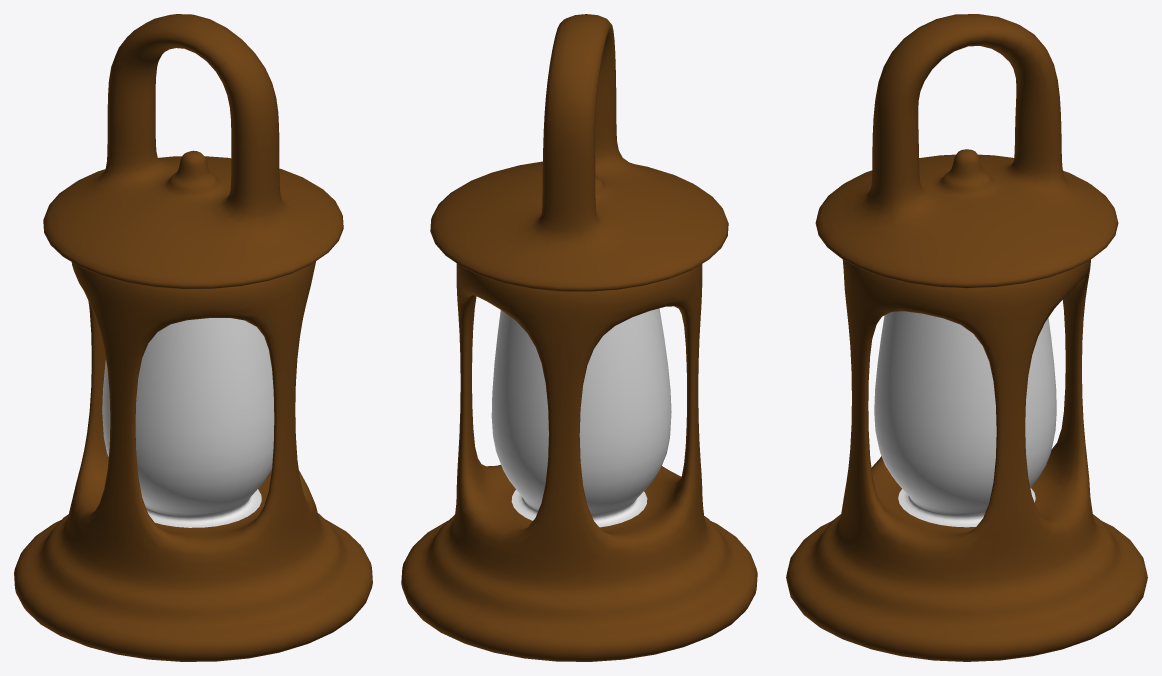
Rendered from LANTERNE.fbx.
3 renders of one model, left to right at view 1: azimuth 30°, elevation 25°; view 2: azimuth 150°, elevation 25°; view 3: azimuth 270°, elevation 25°, orthographic.
Visible parts, largest first — view 1: Cube; view 2: Cube; view 3: Cube.
Part boxes in pixels (<box>): Cube: <box>14,14,372,661</box>; Cube: <box>401,14,757,661</box>; Cube: <box>786,14,1147,661</box>.
Size of the model in its own units: 252 by 439 by 252.
